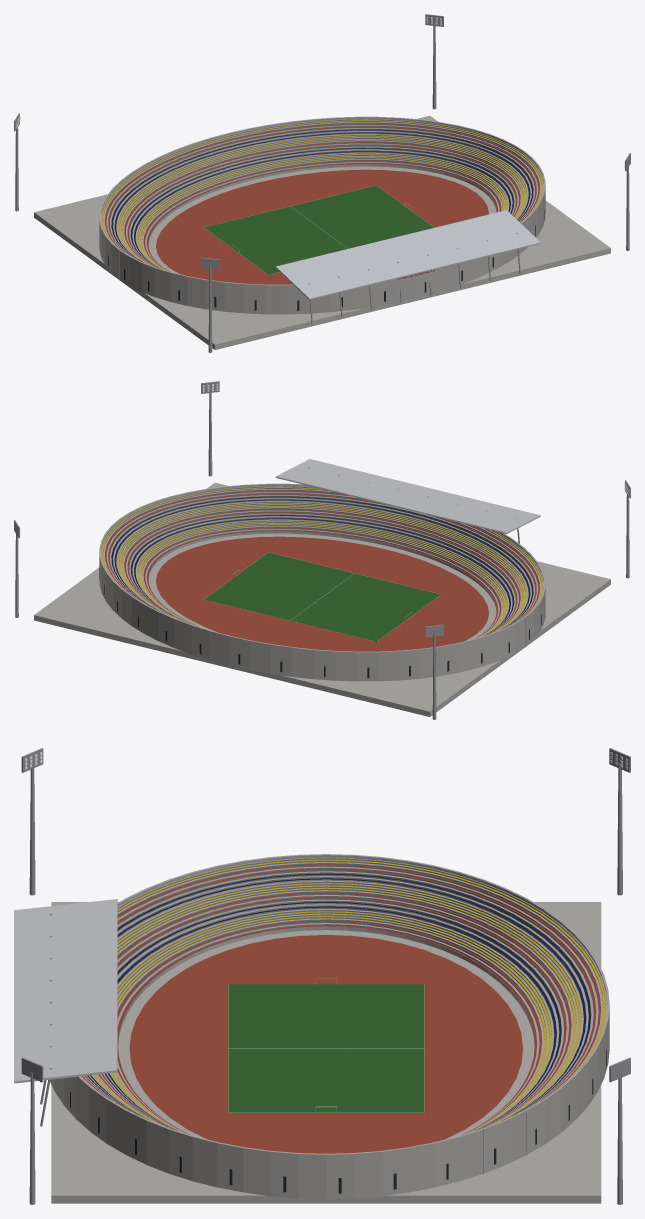
Rendered from simge_stadyum.glb.
The picture shows the model from 3 angles, top to bottom: view 1: azimuth 30°, elevation 25°; view 2: azimuth 150°, elevation 25°; view 3: azimuth 270°, elevation 25°; orthographic projection. The views are drawn at different scales.
Visible parts, largest first — view 1: Simge_Stadyum.001; view 2: Simge_Stadyum.001; view 3: Simge_Stadyum.001.
Boxes of the visible parts, left/top/right/bottom form: Simge_Stadyum.001: left=14, top=14, right=630, bottom=352; Simge_Stadyum.001: left=14, top=381, right=630, bottom=719; Simge_Stadyum.001: left=14, top=748, right=630, bottom=1204.
Size of the model in its own units: 260 by 57 by 213.
